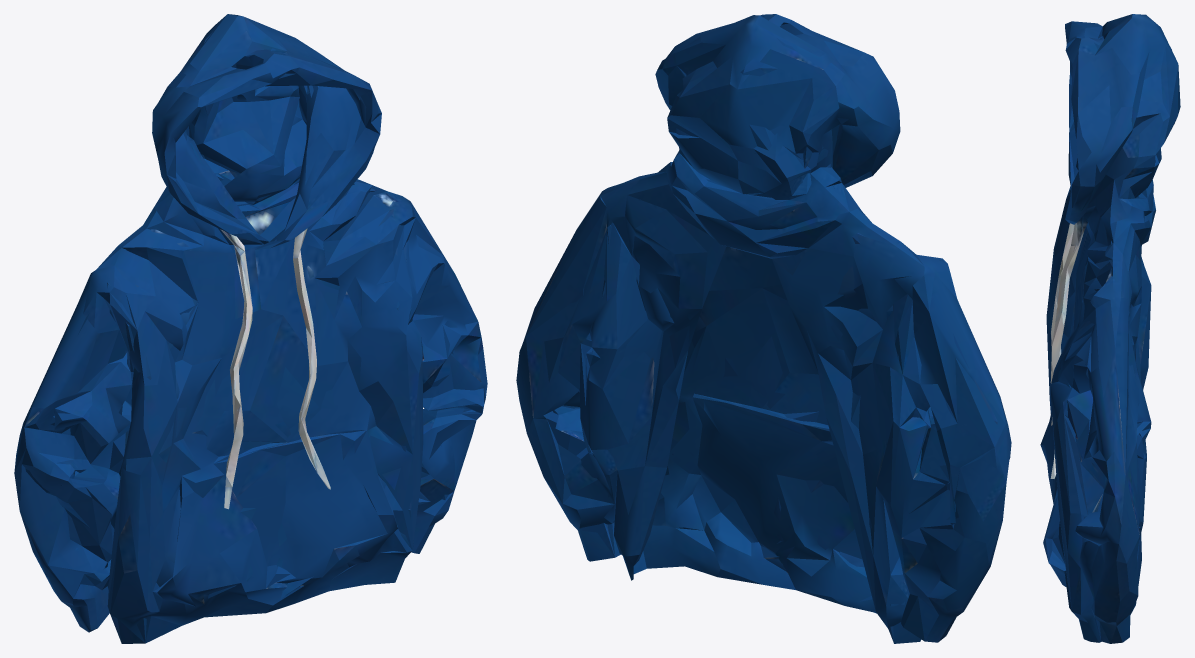
The model's file is addy_sweatshirt_adult.glb.
3 views of the same model, side by side, from view 1: azimuth 30°, elevation 25°; view 2: azimuth 150°, elevation 25°; view 3: azimuth 270°, elevation 25° (orthographic). The views are drawn at different scales.
Bounding box in the file's own units: 1.6 × 1.9 × 0.4287.
Materials: 1 (1 with a texture image).
